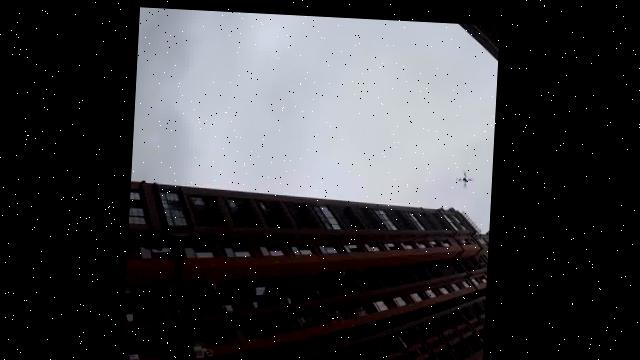drone: (460, 159, 483, 192)
